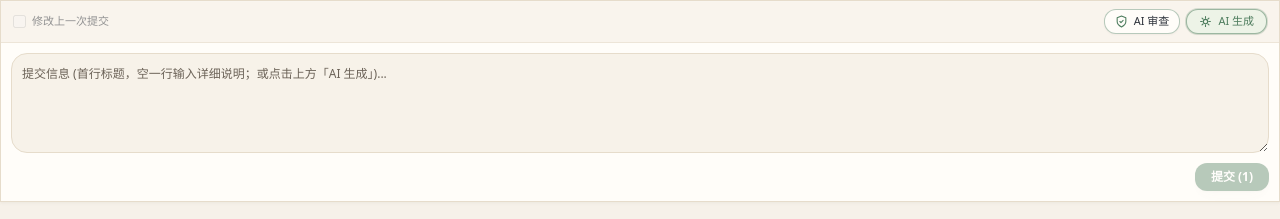
Test case: CommitPanel component › AT-06f: toggles amend to load HEAD message and restores draft upon unchecking
In the text box with placeholder "提交信息 (首行标题，空一行输入详细说明；或点击上方「AI 生成」)...": (640, 103) [11, 53, 1269, 153], type "wip draft message"
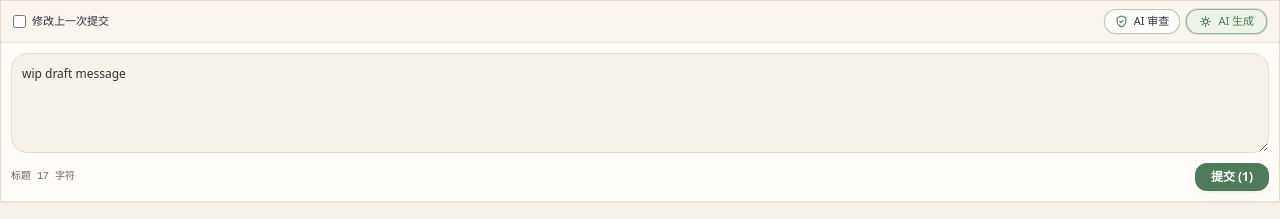
# Check amend
Click the checkbox labelled "修改上一次提交": (20, 21) [13, 15, 26, 28]
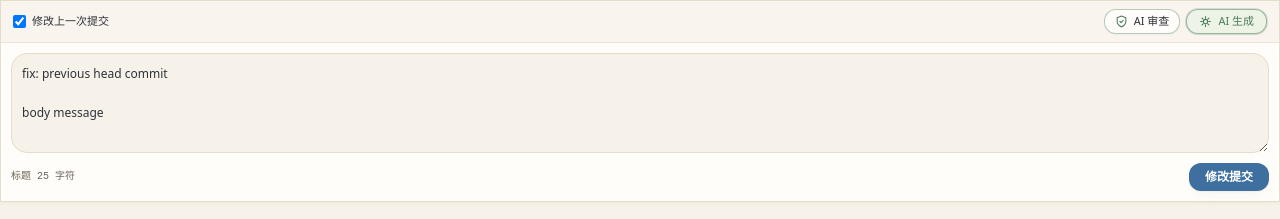
Now the button "修改提交" is shown, box [1189, 163, 1269, 191]
# Uncheck amend
Click the checkbox labelled "修改上一次提交": (20, 21) [13, 15, 26, 28]
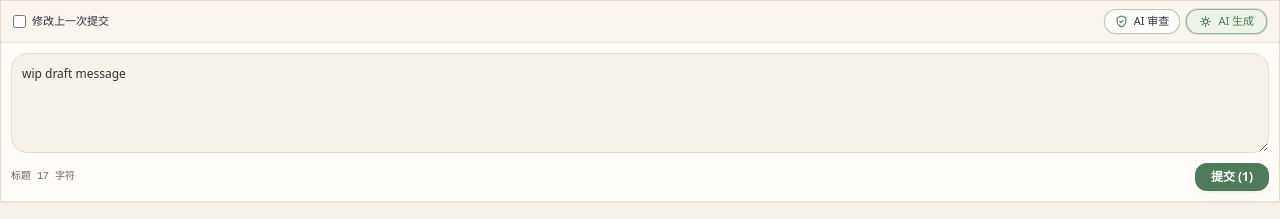
Now the button "提交 (1)" is shown, box [1195, 163, 1269, 191]
